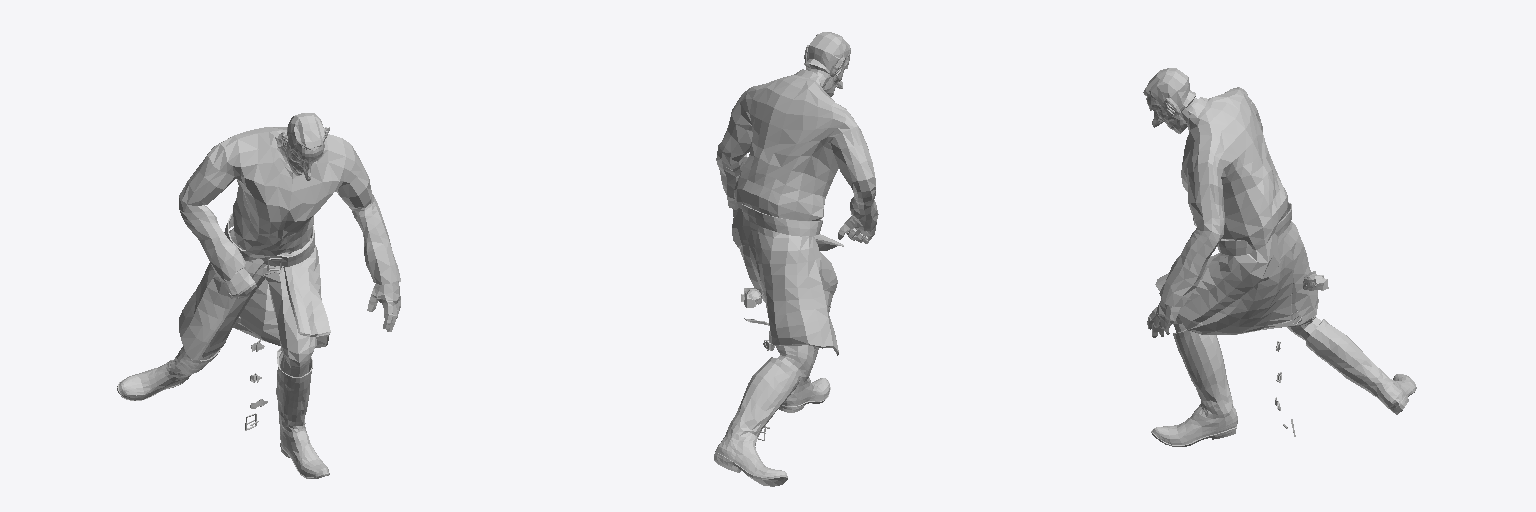
The model's file is sniper-inj-walk_joined_000012.obj.
The picture shows the model from 3 angles: view 1: azimuth 30°, elevation 25°; view 2: azimuth 150°, elevation 25°; view 3: azimuth 270°, elevation 25°; orthographic projection.
Visible parts, largest first — view 1: Shoes; view 2: Shoes; view 3: Shoes.
Part boxes in pixels (left/top/right/bottom): Shoes: left=117, top=113, right=400, bottom=478; Shoes: left=714, top=32, right=878, bottom=486; Shoes: left=1143, top=68, right=1416, bottom=446.
Bounding box in the file's own units: 1.15 × 2.23 × 1.51.